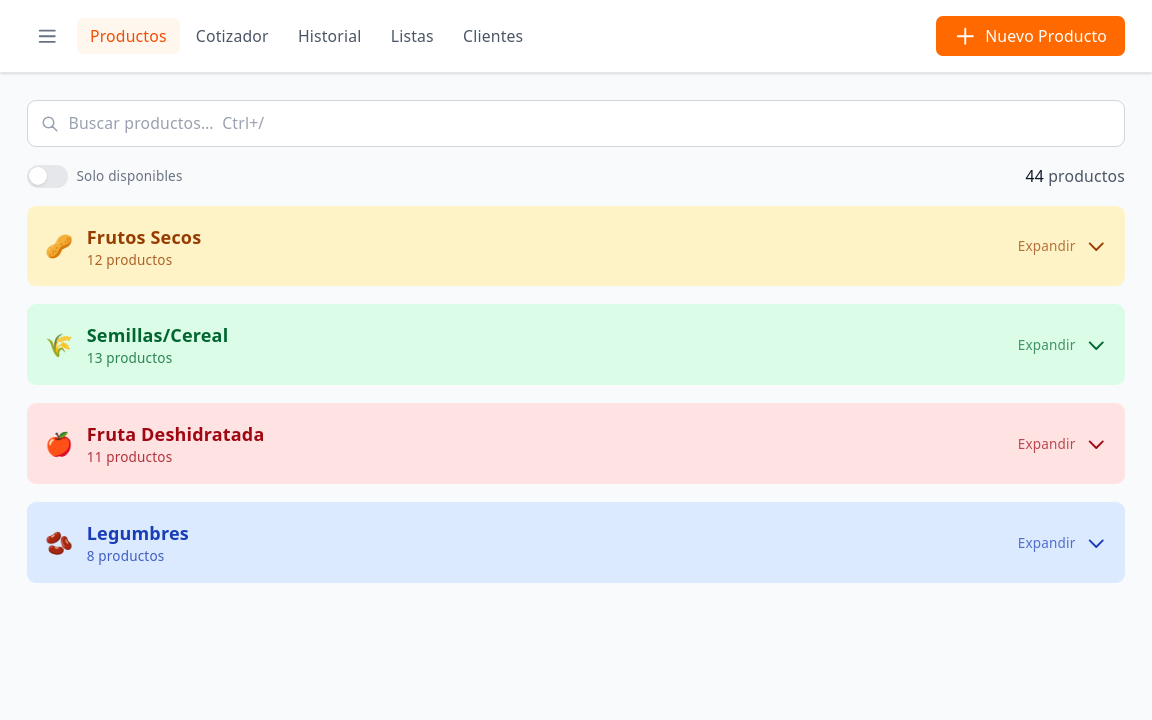
Change password from the options menu › closes the dialog and reports success
The image size is (1152, 720).
Step 1. Click the button named "Menú de opciones" → coordinates (47, 36), box [27,16,68,56]
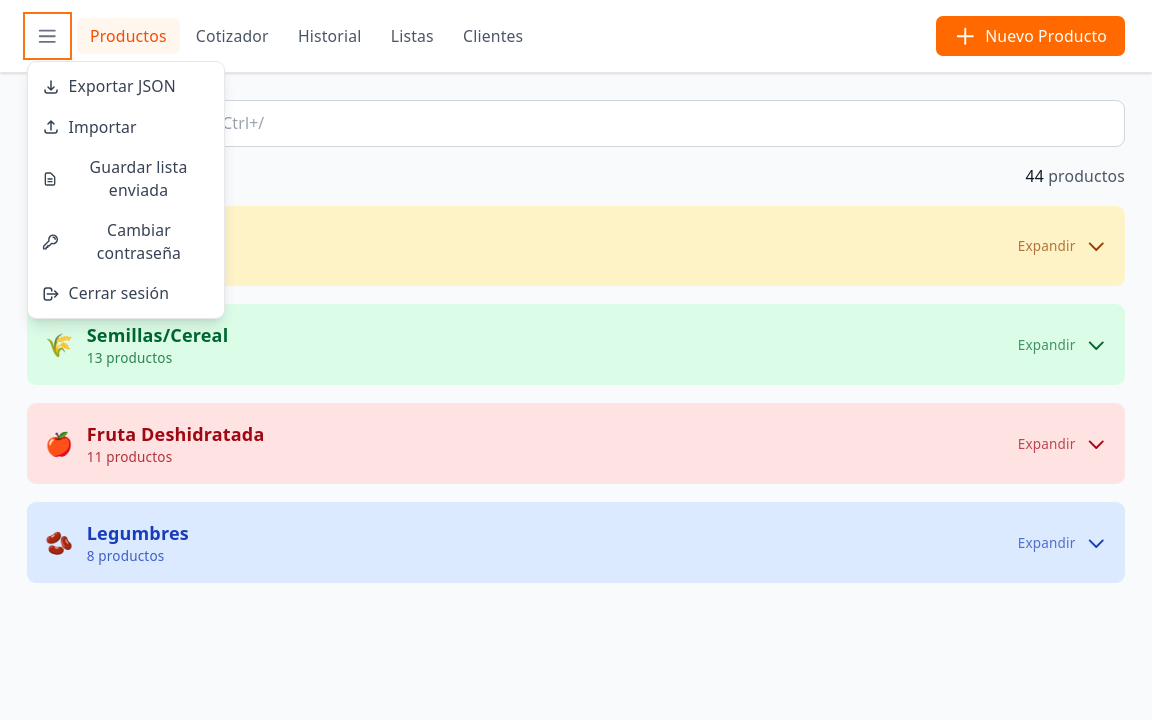
Step 2. Click the button "Cambiar contraseña" → coordinates (126, 242), box [28,210,224,273]
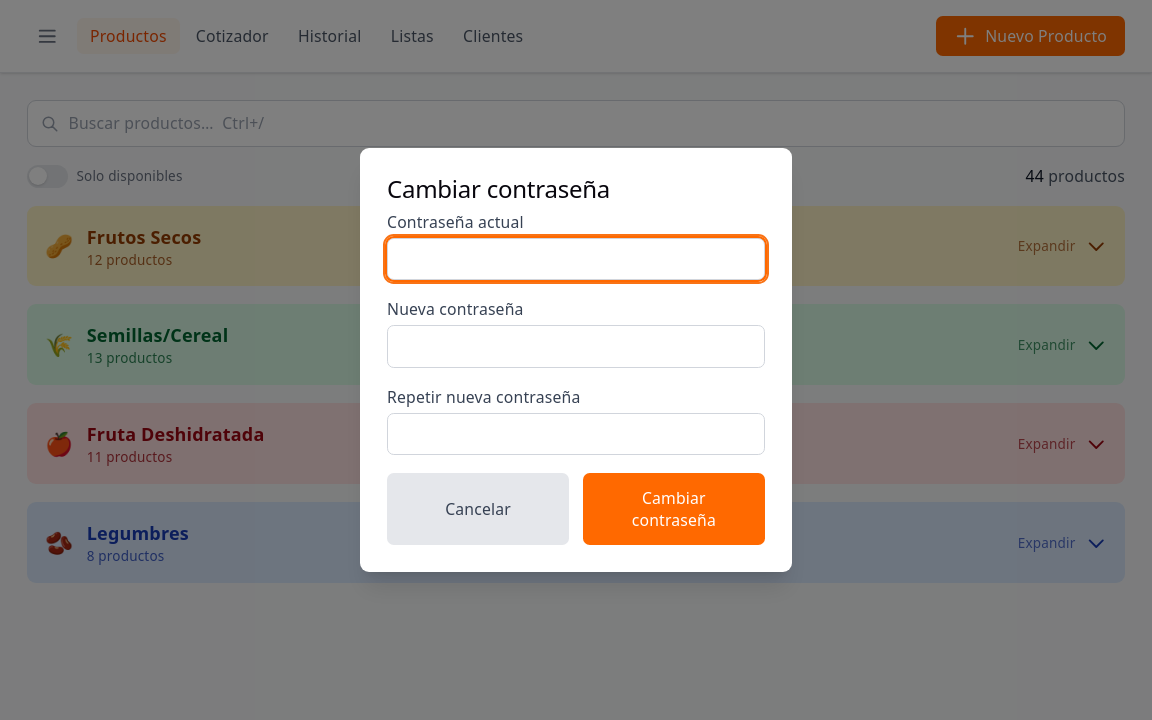
Step 3. Type "current-secret" into the password field labelled "Contraseña actual" → coordinates (576, 259), box [387,238,765,280]
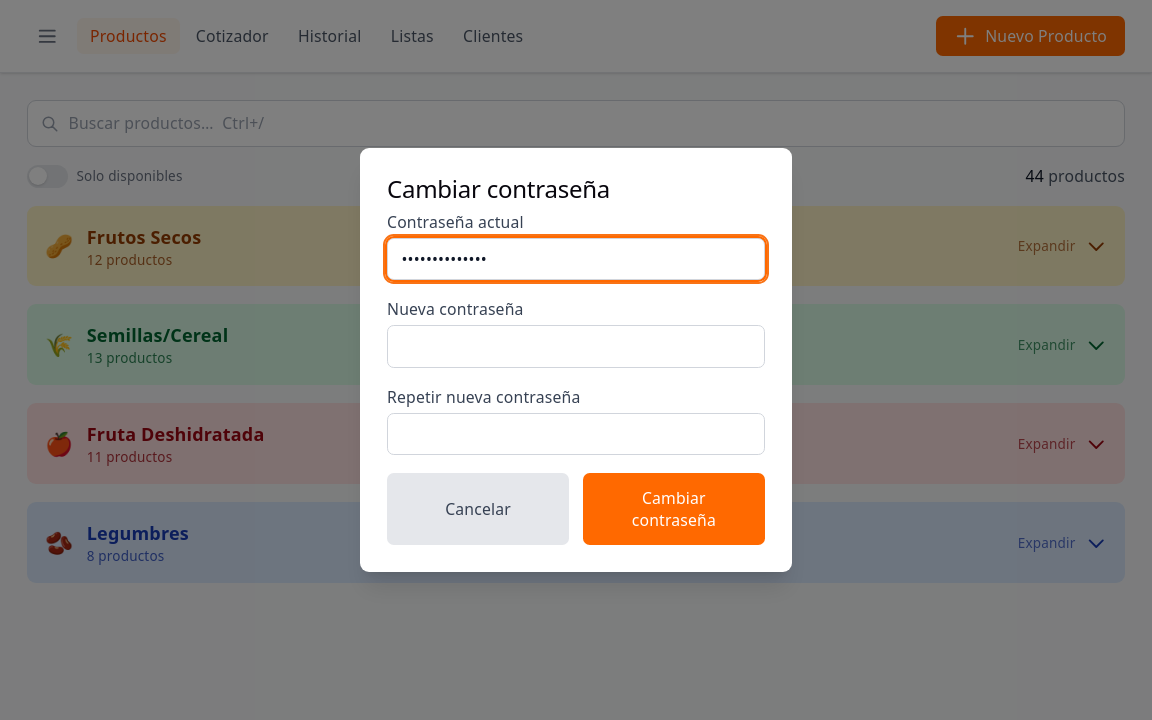
Step 4. Type "new-secret-1" into the password field labelled "Nueva contraseña" → coordinates (576, 347), box [387,325,765,368]
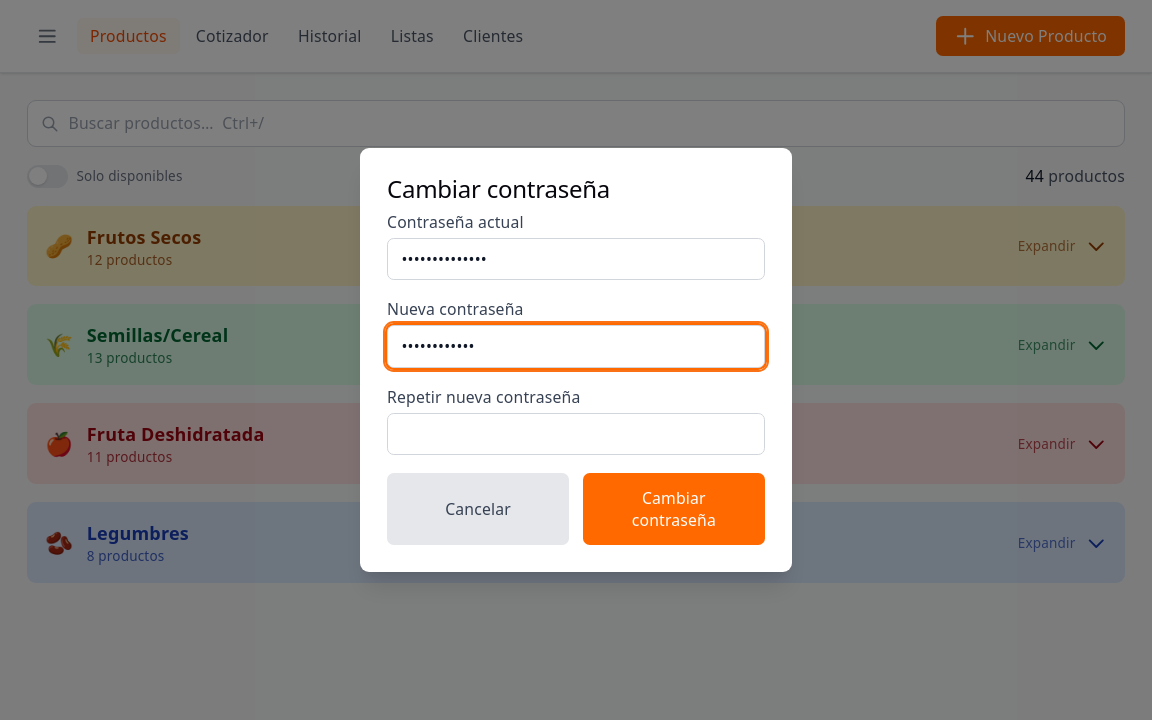
Step 5. Type "new-secret-1" into the password field labelled "Repetir nueva contraseña" → coordinates (576, 434), box [387,413,765,455]
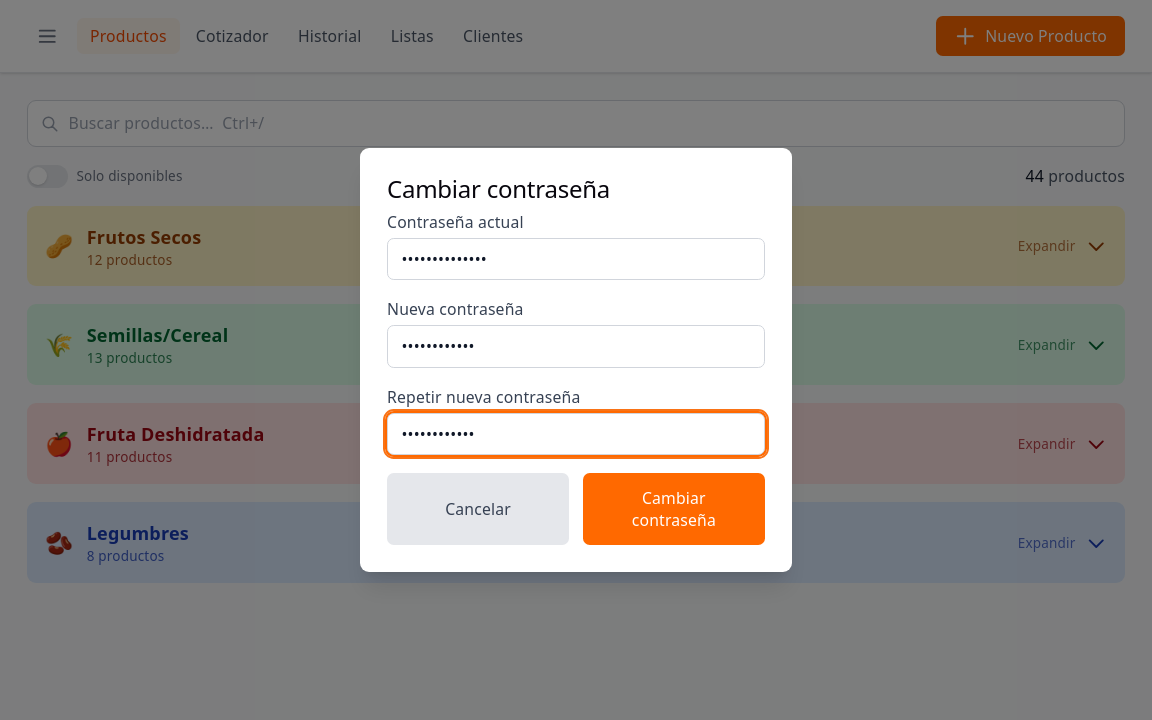
Step 6. Click the button "Cambiar contraseña" → coordinates (674, 509), box [583,473,765,545]
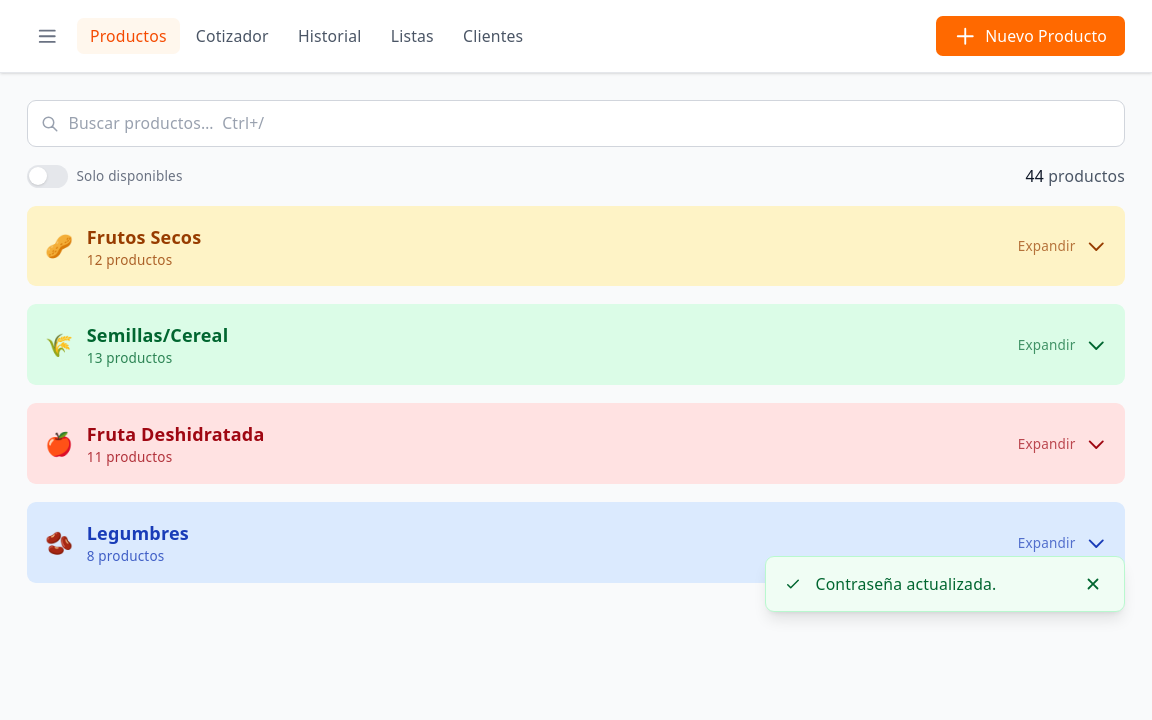
Check: the text "Contraseña actualizada." is shown, box [816,573,996,595]
Check: the dialog is gone
